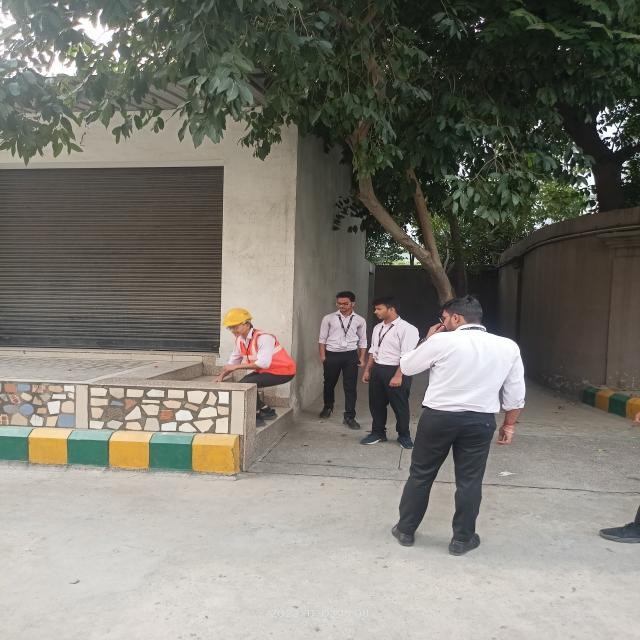safe: (221, 308, 298, 424)
unsafe: (375, 291, 533, 557), (372, 302, 416, 452)
